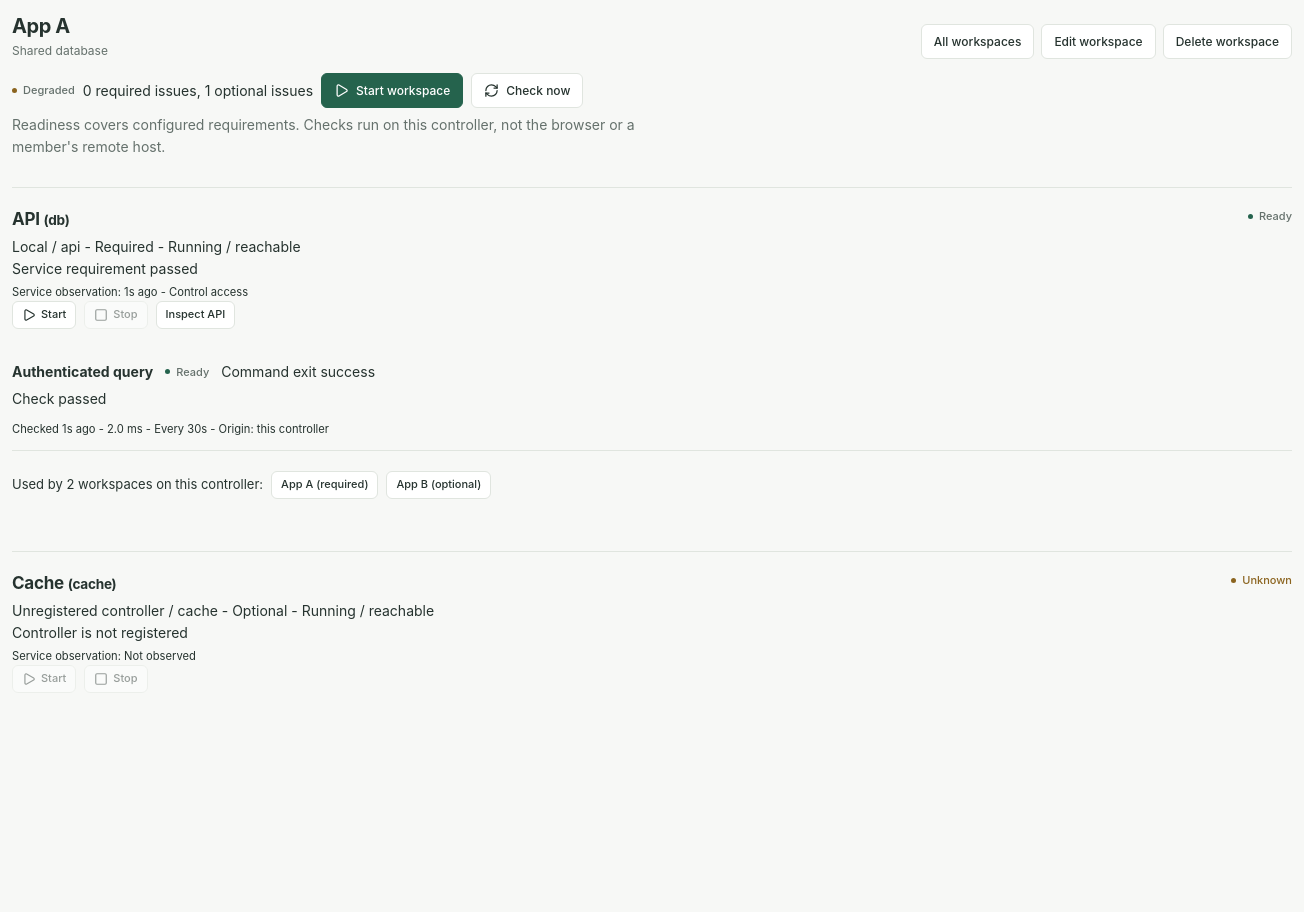
Test: reports unknown network outcomes and refreshes instead of retrying the action
Click the button with aria-label "Start API". click: (44, 315)
box: [12, 301, 76, 329]
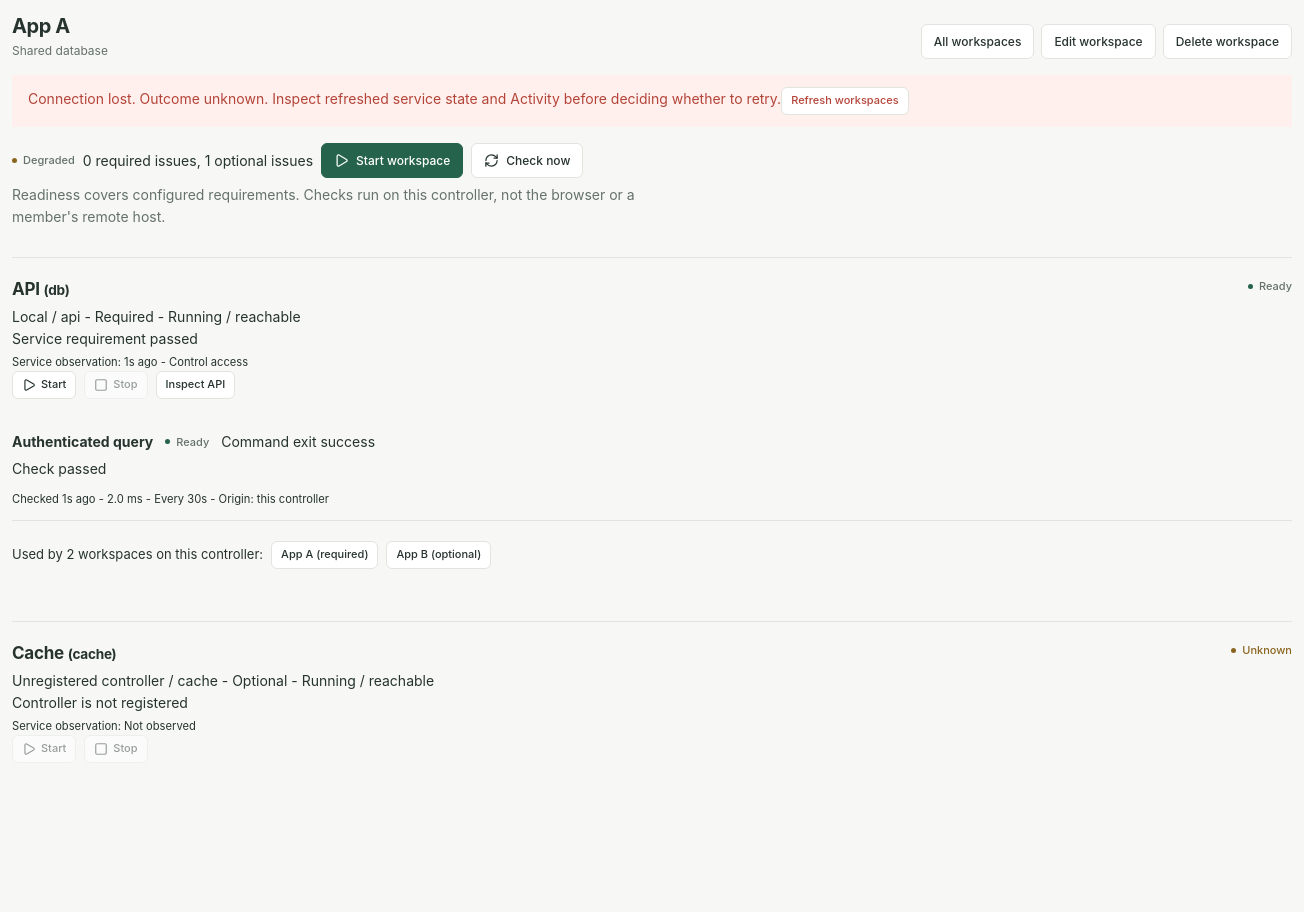
Now the message shows "Outcome unknown", box [28, 90, 781, 107]
